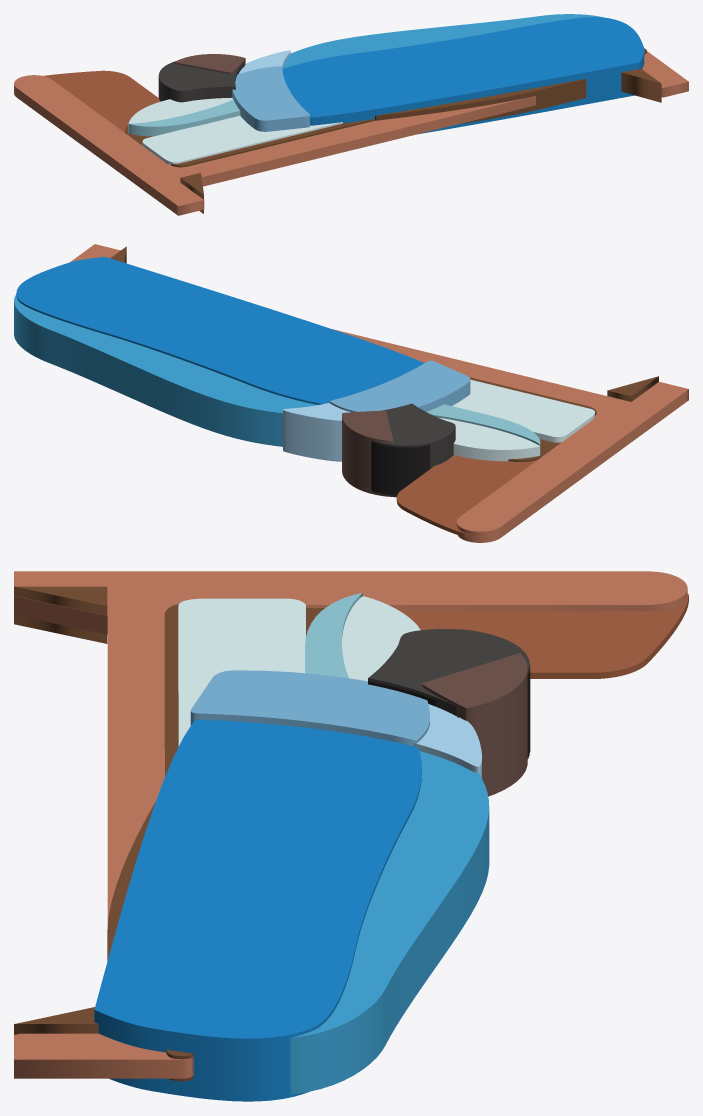
File: emoji_u1f6cc_1f3ff.glb
The picture shows the model from 3 angles, top to bottom: view 1: azimuth 30°, elevation 25°; view 2: azimuth 150°, elevation 25°; view 3: azimuth 270°, elevation 25°; orthographic projection. The views are drawn at different scales.
Parts seen in each view (by area): view 1: emoji_u1f6cc_1f3ff; view 2: emoji_u1f6cc_1f3ff; view 3: emoji_u1f6cc_1f3ff.
Part boxes in pixels (x1,y1,x2,y2): emoji_u1f6cc_1f3ff: (14, 14, 688, 215); emoji_u1f6cc_1f3ff: (14, 244, 688, 542); emoji_u1f6cc_1f3ff: (14, 571, 688, 1101).
Bounding box in the file's own units: 0.0334 × 0.003 × 0.0195.
